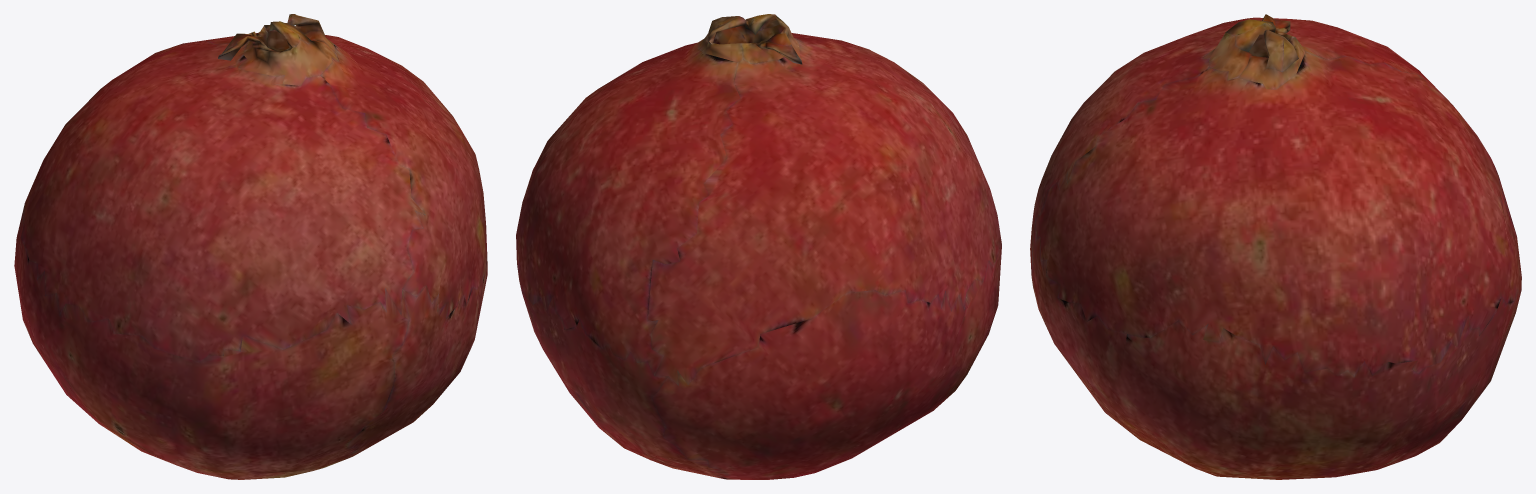
File: food_pomegranate_01.glb
3 views of the same model, side by side, from view 1: azimuth 30°, elevation 25°; view 2: azimuth 150°, elevation 25°; view 3: azimuth 270°, elevation 25° (orthographic). The views are drawn at different scales.
Visible parts, largest first — view 1: food_pomegranate_01; view 2: food_pomegranate_01; view 3: food_pomegranate_01.
Boxes of the visible parts, left/top/right/bottom form: food_pomegranate_01: left=14, top=14, right=487, bottom=479; food_pomegranate_01: left=516, top=14, right=1001, bottom=479; food_pomegranate_01: left=1030, top=14, right=1521, bottom=479.
Bounding box in the file's own units: 0.1136 × 0.1148 × 0.1154.
Materials: 1 (1 with a texture image).
